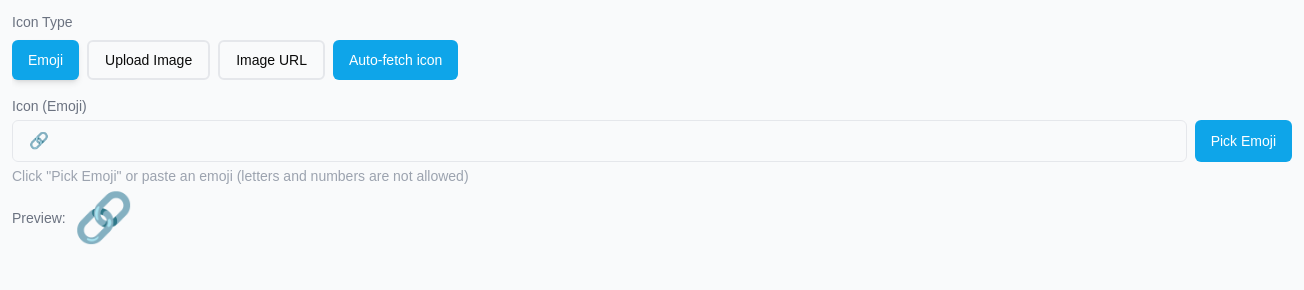
Test: IconSelector — Auto-fetch icon button › shows the backend error inline without mutating icon state on failure
The width and height of the screenshot is (1304, 290).
Step 1. Click the button "Auto-fetch icon" → (396,60), box [333,40,458,80]
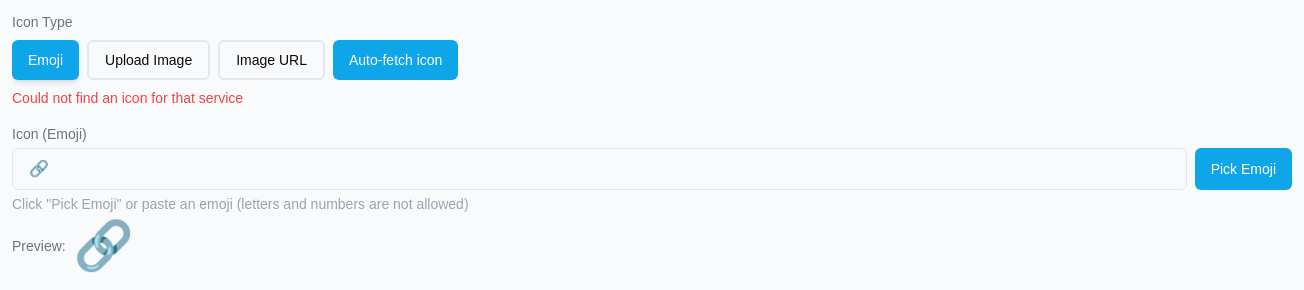
expect the message reads "Could not find an icon for that service": met, box [12,90,243,106]
